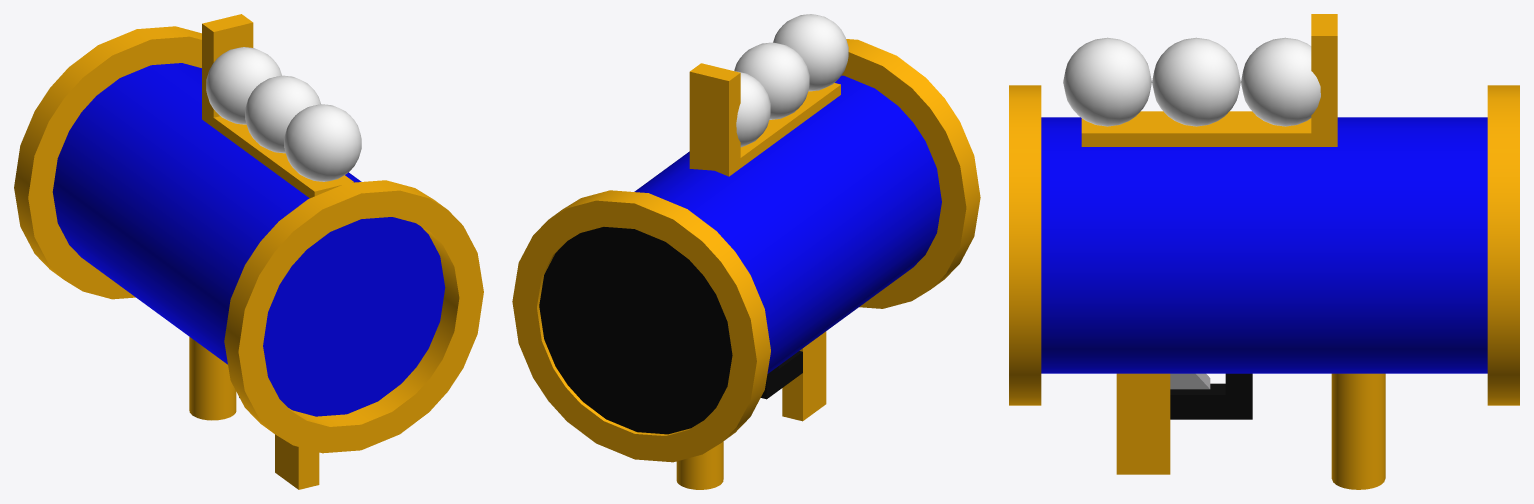
File: SnowballCannon.glb
3 renders of one model, left to right at view 1: azimuth 30°, elevation 25°; view 2: azimuth 150°, elevation 25°; view 3: azimuth 270°, elevation 25°, orthographic. The views are drawn at different scales.
Visible parts, largest first — view 1: SnowballCannon; view 2: SnowballCannon; view 3: SnowballCannon.
Part boxes in pixels (x1=…): SnowballCannon: x1=14, y1=14, x2=483, y2=489; SnowballCannon: x1=512, y1=14, x2=980, y2=489; SnowballCannon: x1=1009, y1=14, x2=1519, y2=489.
Bounding box in the file's own units: 1.5 × 2.33 × 2.37.
